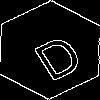D: (25, 25, 87, 83)
